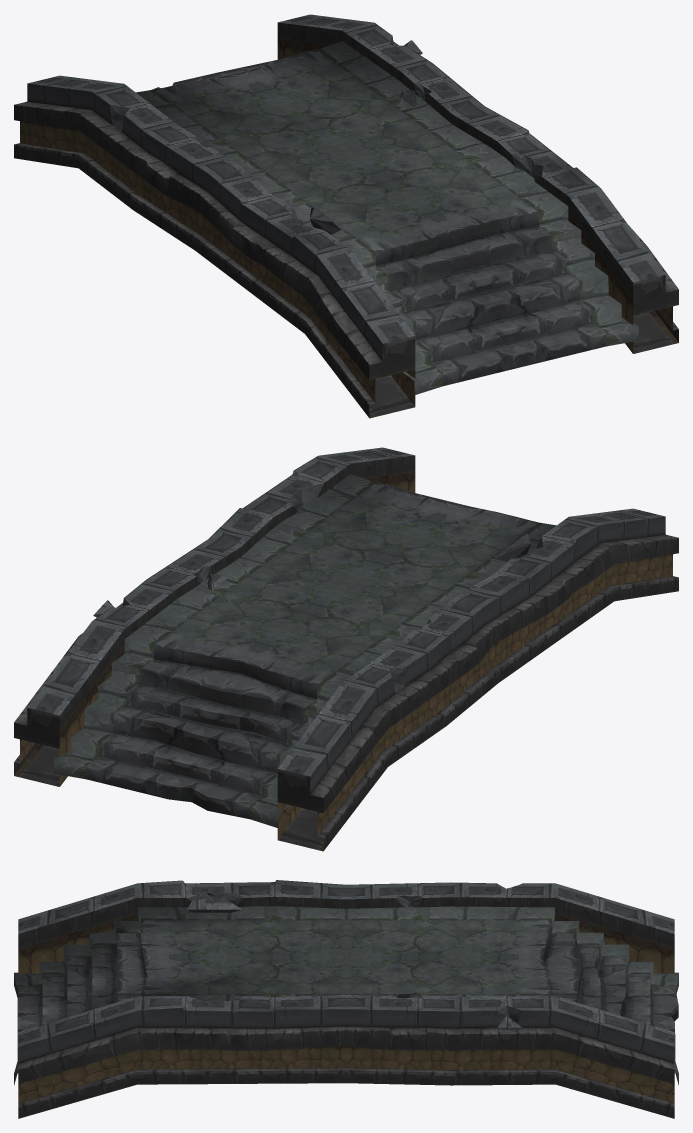
The model's file is Battle01_Bridge_02.FBX.
3 renders of one model, top to bottom at view 1: azimuth 30°, elevation 25°; view 2: azimuth 150°, elevation 25°; view 3: azimuth 270°, elevation 25°, orthographic. The views are drawn at different scales.
Parts seen in each view (by area): view 1: C01_Bridge_02, C01_Bridge_02_ncl1_1; view 2: C01_Bridge_02, C01_Bridge_02_ncl1_1; view 3: C01_Bridge_02_ncl1_1, C01_Bridge_02.
Part boxes in pixels (x1=…): C01_Bridge_02: x1=136, y1=41, x2=638, y2=394; C01_Bridge_02_ncl1_1: x1=14, y1=14, x2=678, y2=418; C01_Bridge_02: x1=54, y1=474, x2=556, y2=827; C01_Bridge_02_ncl1_1: x1=14, y1=447, x2=678, y2=851; C01_Bridge_02_ncl1_1: x1=18, y1=880, x2=674, y2=1118; C01_Bridge_02: x1=14, y1=906, x2=678, y2=1085.
Size of the model in its own units: 6.43 by 2.24 by 12.62.
